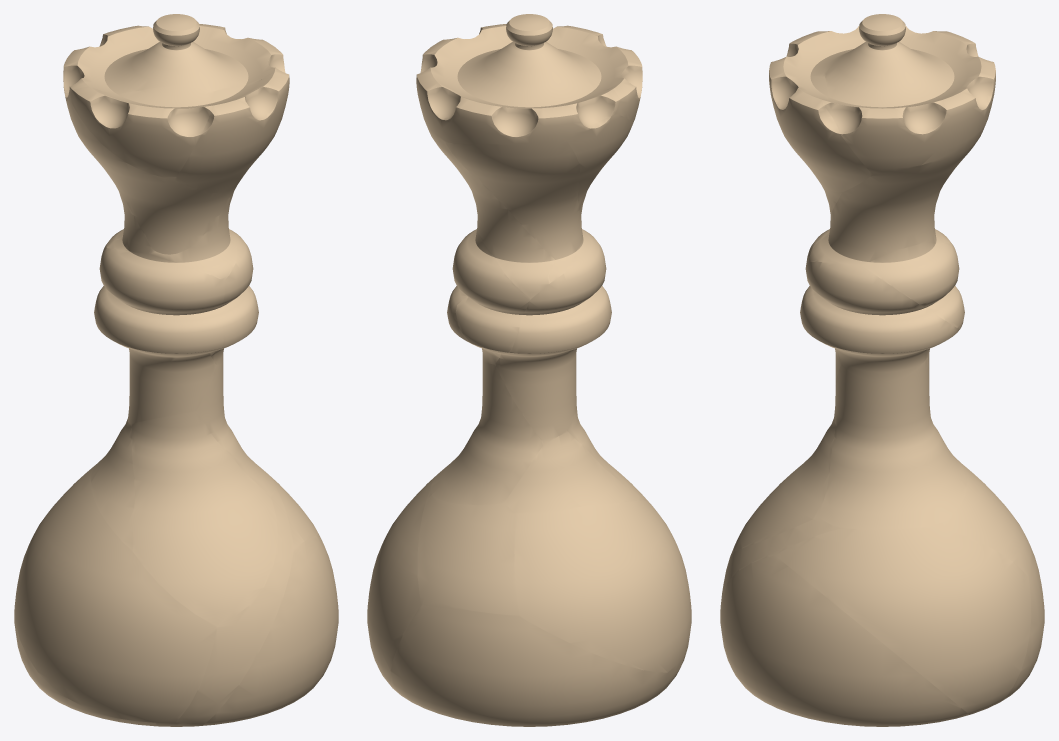
File: queen.glb
The picture shows the model from 3 angles, left to right: view 1: azimuth 30°, elevation 25°; view 2: azimuth 150°, elevation 25°; view 3: azimuth 270°, elevation 25°; orthographic projection.
Parts seen in each view (by area): view 1: chunk-04.010, chunk-06.010, chunk-17.002, chunk-10.010, chunk-01.010, chunk-16.002, chunk-15.006, chunk-14.006, chunk-03.010, chunk-08.010, chunk-05.010, chunk-09.010 (+5 smaller); view 2: chunk-04.010, chunk-00.010, chunk-17.002, chunk-03.010, chunk-13.008, chunk-07.010, chunk-10.010, chunk-02.010, chunk-05.010, chunk-11.010, chunk-08.010, chunk-12.008 (+5 smaller); view 3: chunk-02.010, chunk-01.010, chunk-17.002, chunk-07.010, chunk-09.010, chunk-12.008, chunk-15.006, chunk-03.010, chunk-11.010, chunk-06.010, chunk-16.002, chunk-00.010.
Boxes of the visible parts, left/top/right/bottom form: chunk-04.010: left=15, top=462, right=216, bottom=722; chunk-06.010: left=131, top=412, right=277, bottom=626; chunk-17.002: left=63, top=14, right=285, bottom=97; chunk-10.010: left=94, top=246, right=224, bottom=357; chunk-01.010: left=203, top=534, right=338, bottom=725; chunk-16.002: left=70, top=86, right=214, bottom=179; chunk-15.006: left=174, top=71, right=289, bottom=192; chunk-14.006: left=64, top=92, right=239, bottom=254; chunk-03.010: left=176, top=487, right=293, bottom=725; chunk-08.010: left=127, top=348, right=216, bottom=423; chunk-05.010: left=91, top=420, right=134, bottom=550; chunk-09.010: left=210, top=235, right=258, bottom=365; chunk-04.010: left=514, top=500, right=691, bottom=672; chunk-00.010: left=390, top=605, right=680, bottom=726; chunk-17.002: left=416, top=14, right=619, bottom=144; chunk-03.010: left=417, top=491, right=519, bottom=616; chunk-13.008: left=445, top=140, right=582, bottom=282; chunk-07.010: left=430, top=359, right=543, bottom=504; chunk-10.010: left=511, top=229, right=611, bottom=355; chunk-02.010: left=367, top=473, right=438, bottom=688; chunk-05.010: left=504, top=430, right=642, bottom=513; chunk-11.010: left=452, top=228, right=530, bottom=353; chunk-08.010: left=495, top=348, right=576, bottom=443; chunk-12.008: left=428, top=129, right=555, bottom=298; chunk-02.010: left=775, top=527, right=1031, bottom=714; chunk-01.010: left=720, top=555, right=969, bottom=726; chunk-17.002: left=822, top=14, right=995, bottom=174; chunk-07.010: left=819, top=357, right=966, bottom=528; chunk-09.010: left=800, top=262, right=959, bottom=380; chunk-12.008: left=809, top=133, right=979, bottom=264; chunk-15.006: left=769, top=60, right=872, bottom=192; chunk-03.010: left=721, top=464, right=1031, bottom=596; chunk-11.010: left=862, top=242, right=964, bottom=328; chunk-06.010: left=733, top=406, right=835, bottom=550; chunk-16.002: left=777, top=26, right=865, bottom=76; chunk-00.010: left=1002, top=546, right=1044, bottom=700.
Bounding box in the file's own units: 0.721 × 1.58 × 0.721.
